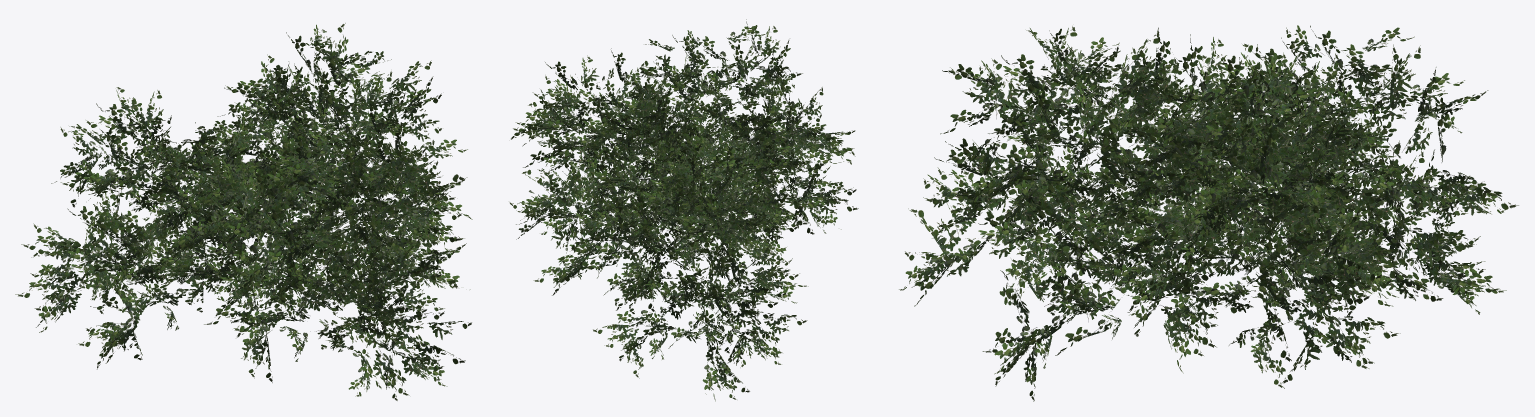
The model's file is MESH_WE17_QuercusAgrifolia_Y_LOD1.fbx.
The picture shows the model from 3 angles, left to right: view 1: azimuth 30°, elevation 25°; view 2: azimuth 150°, elevation 25°; view 3: azimuth 270°, elevation 25°; orthographic projection. The views are drawn at different scales.
Visible parts, largest first — view 1: MI_LOD1_001; view 2: MI_LOD1_001; view 3: MI_LOD1_001.
Boxes of the visible parts, left/top/right/bottom form: MI_LOD1_001: left=15, top=23, right=472, bottom=400; MI_LOD1_001: left=509, top=19, right=858, bottom=401; MI_LOD1_001: left=899, top=25, right=1518, bottom=401.
Size of what is drawn, in the model's own units: 299 by 245 by 373.
